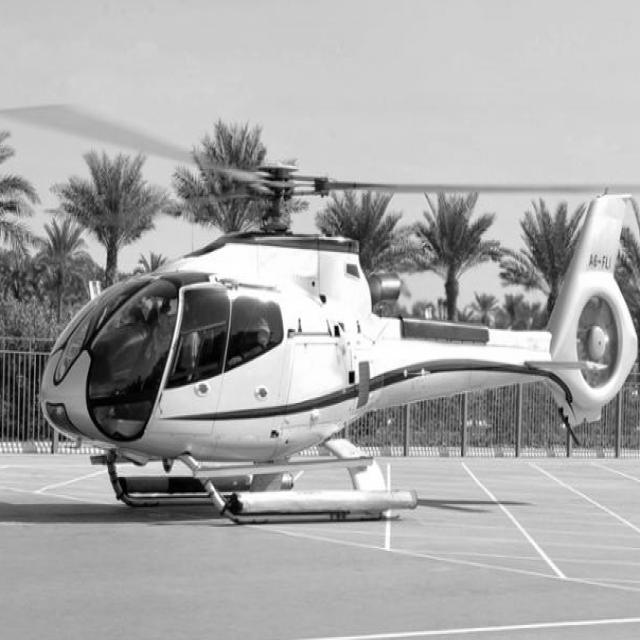helicopter: (23, 102, 637, 535)
